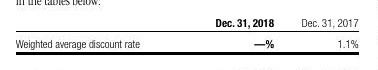table: (0, 0, 378, 70)
